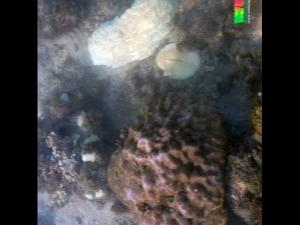bleached_corals: (152, 37, 204, 84)
